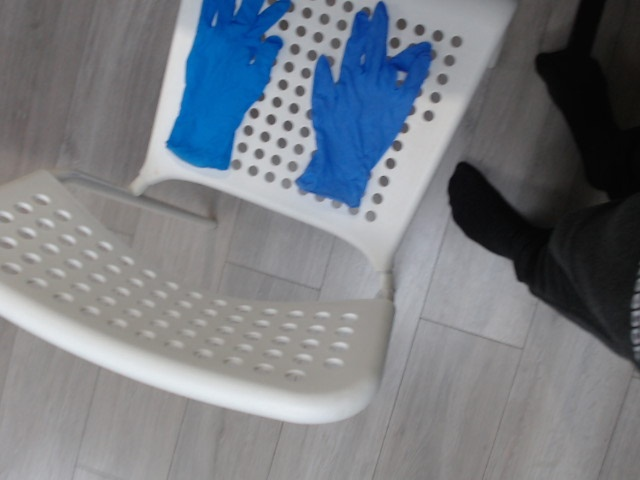medical_glove: (295, 2, 433, 207), (165, 1, 290, 170)
